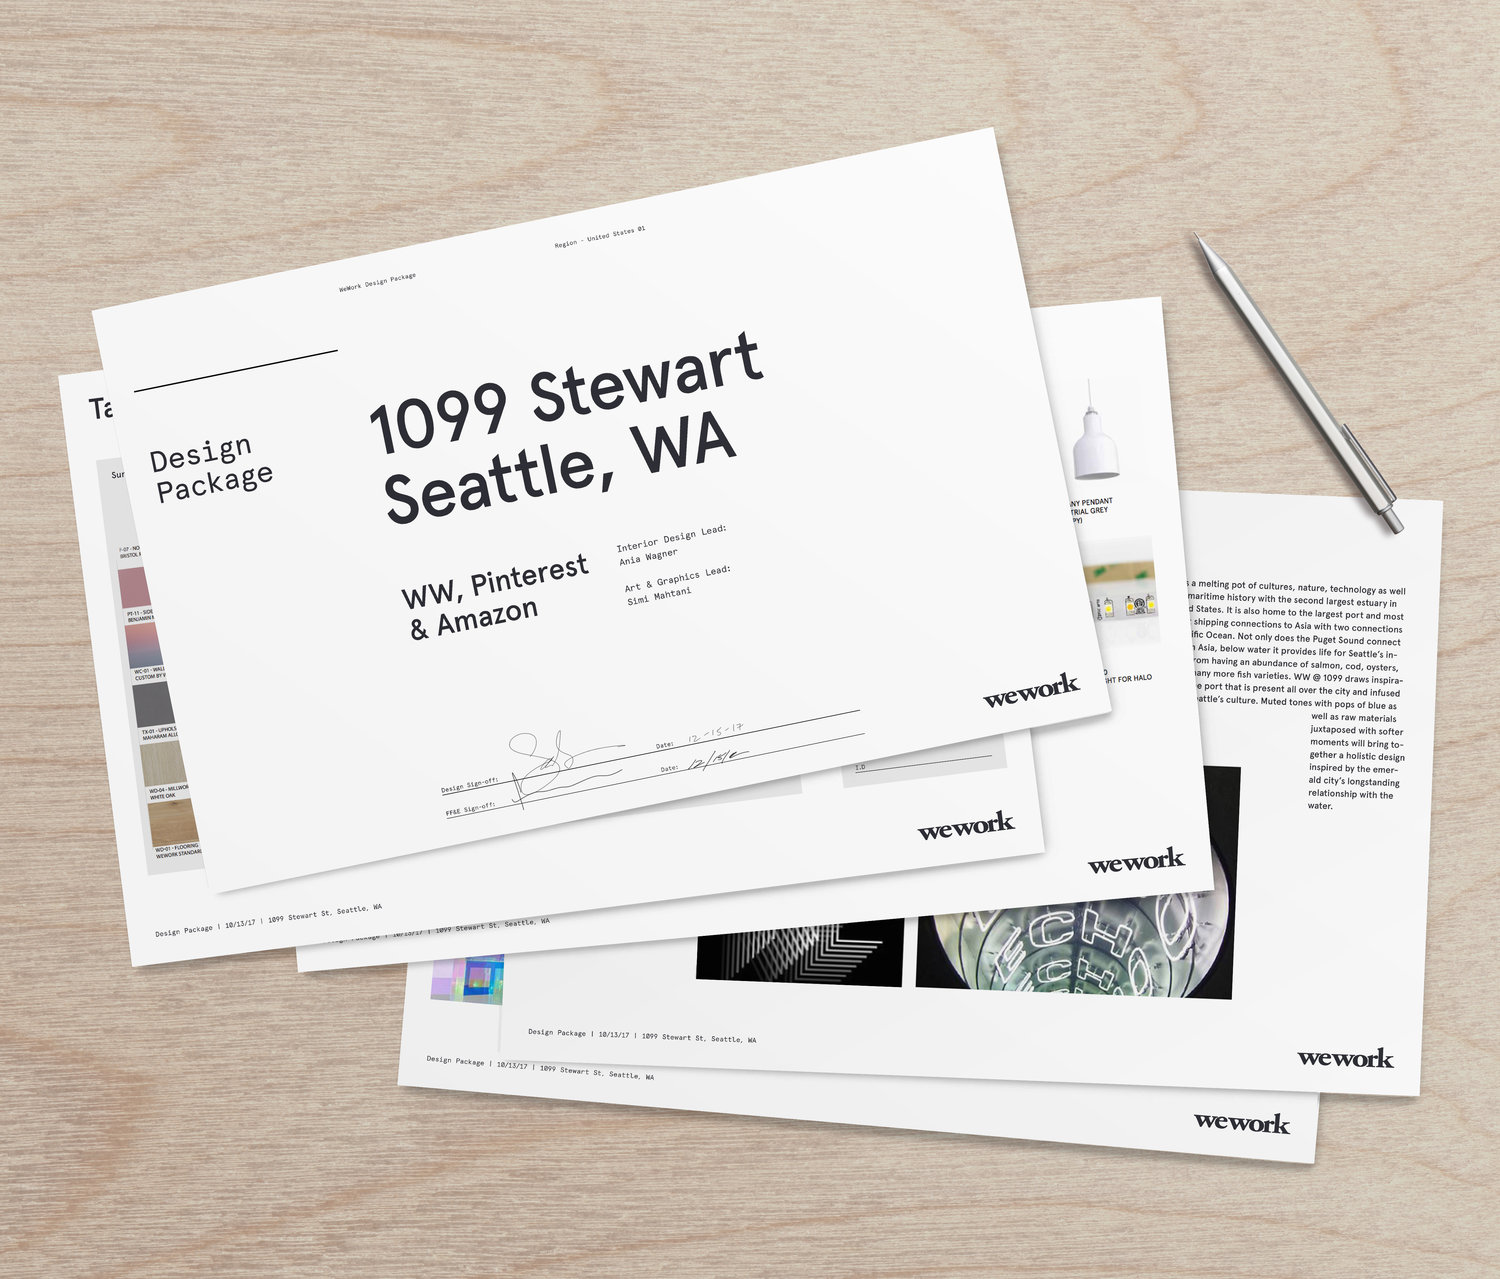wework: (978, 670, 1088, 711), (912, 808, 1022, 843), (1086, 844, 1188, 876), (1192, 1109, 1293, 1137), (1296, 1044, 1397, 1071)
